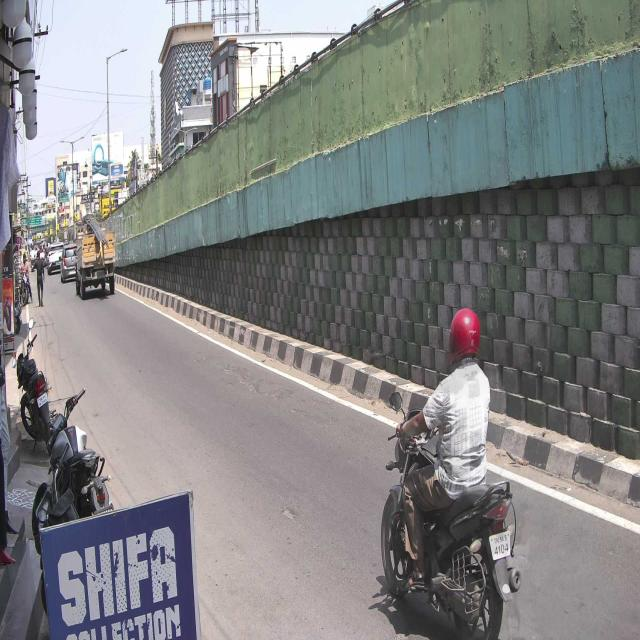single_rider: (378, 307, 520, 640)
